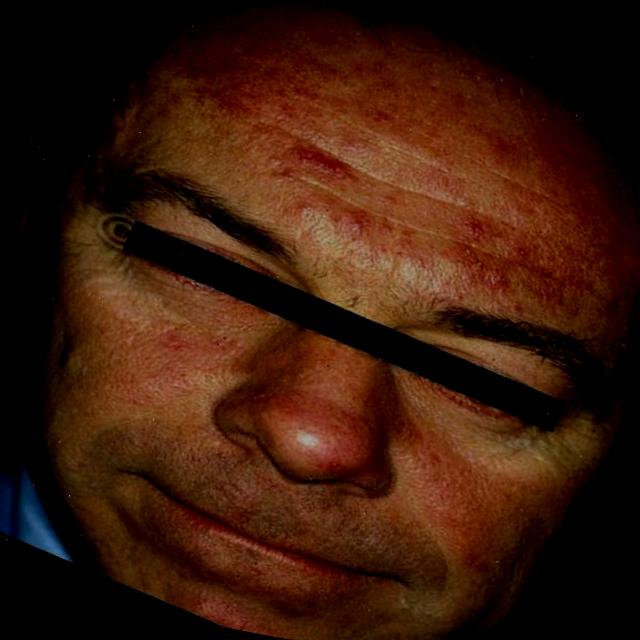skinredness: (55, 0, 640, 403)
